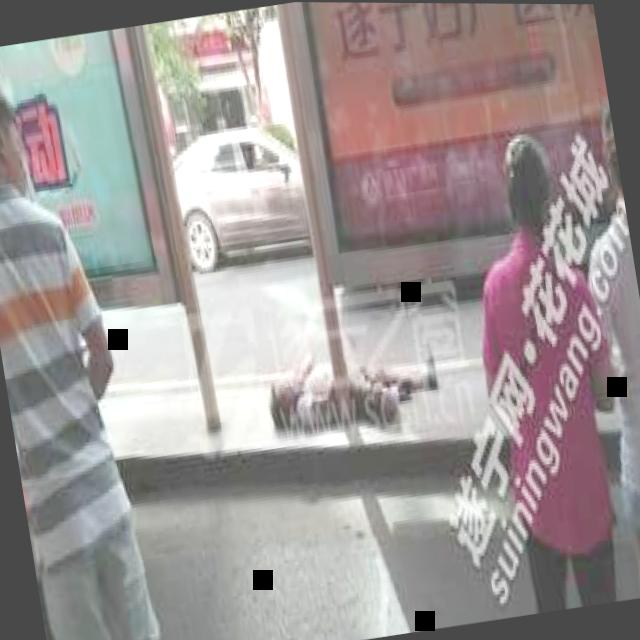Fall-Detected: (246, 296, 460, 457)
